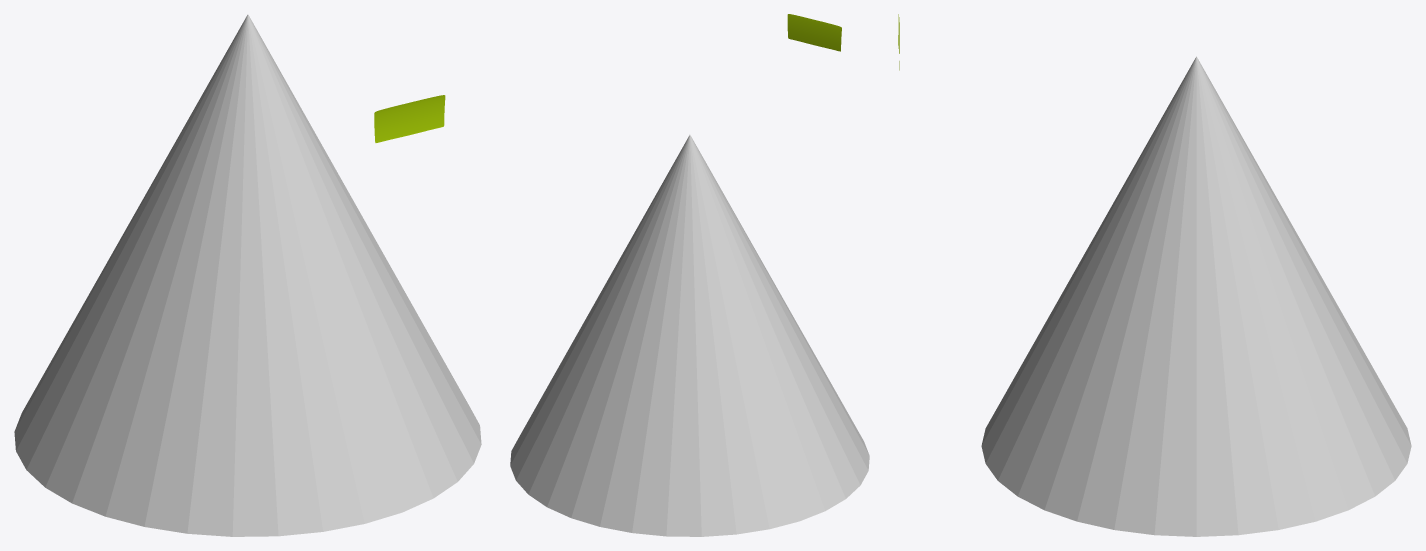
The model's file is Screeens.fbx.
3 renders of one model, left to right at view 1: azimuth 30°, elevation 25°; view 2: azimuth 150°, elevation 25°; view 3: azimuth 270°, elevation 25°, orthographic. The views are drawn at different scales.
Visible parts, largest first — view 1: Cone, Maquina1Base.002; view 2: Cone, Maquina1Base.002; view 3: Cone.
Boxes of the visible parts, x1,y1,x2,y2 form: Cone: (14,14,481,536); Maquina1Base.002: (374,95,445,142); Cone: (510,135,869,536); Maquina1Base.002: (787,14,841,51); Cone: (981,56,1411,536).
Bounding box in the file's own units: 200 × 214 × 239.
